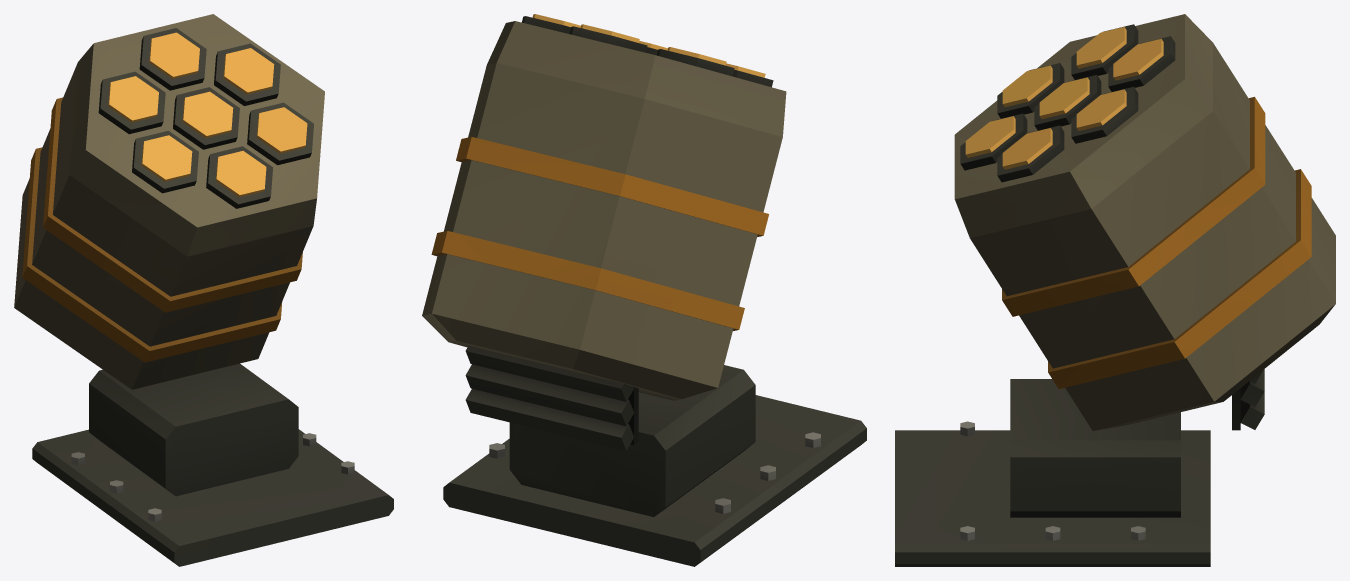
Rendered from sh-hive.glb.
The picture shows the model from 3 angles, left to right: view 1: azimuth 30°, elevation 25°; view 2: azimuth 150°, elevation 25°; view 3: azimuth 270°, elevation 25°; orthographic projection. The views are drawn at different scales.
Visible parts, largest first — view 1: Body, Glow; view 2: Body, Glow; view 3: Body, Glow.
Boxes of the visible parts, left/top/right/bottom form: Body: left=14, top=14, right=393, bottom=566; Glow: left=108, top=32, right=307, bottom=197; Body: left=422, top=16, right=866, bottom=566; Glow: left=532, top=14, right=765, bottom=77; Body: left=895, top=14, right=1335, bottom=566; Glow: left=965, top=27, right=1163, bottom=169.
Bounding box in the file's own units: 0.79 × 1.2 × 1.03.
